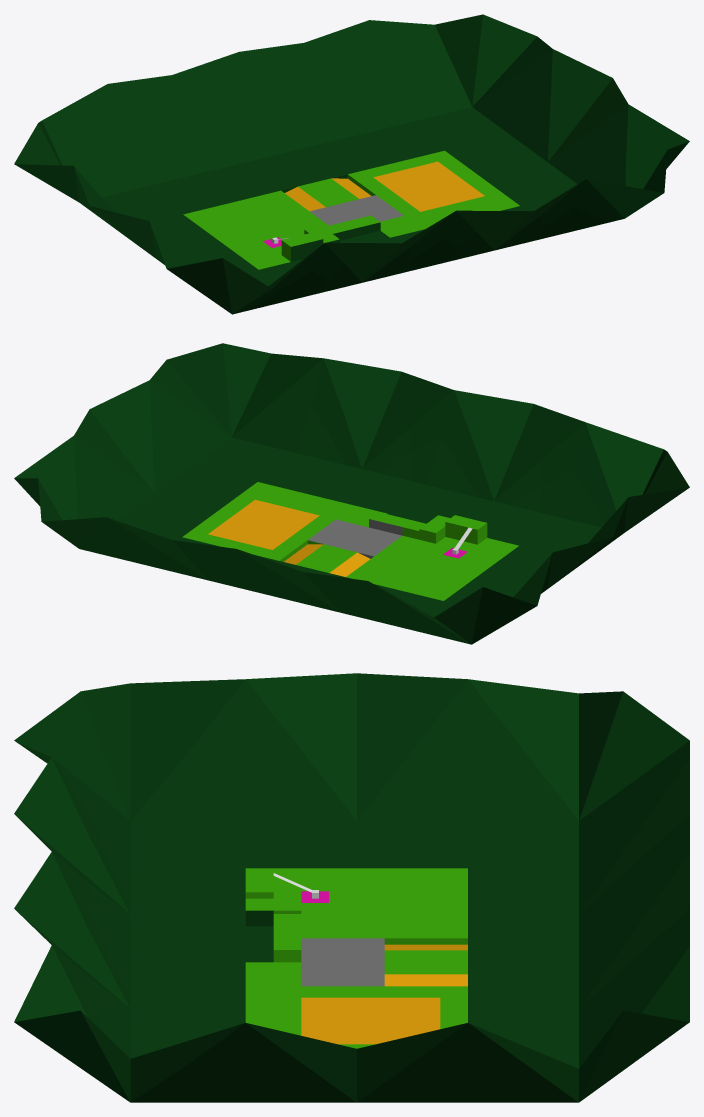
3 renders of one model, top to bottom at view 1: azimuth 30°, elevation 25°; view 2: azimuth 150°, elevation 25°; view 3: azimuth 270°, elevation 25°, orthographic. The views are drawn at different scales.
Parts seen in each view (by area): view 1: Plane; view 2: Plane; view 3: Plane.
Boxes of the visible parts, x1=… form: Plane: x1=14, y1=14, x2=689, y2=314; Plane: x1=14, y1=343, x2=689, y2=644; Plane: x1=14, y1=673, x2=689, y2=1102.
Size of the model in its own units: 12800 by 1860 by 9738.
